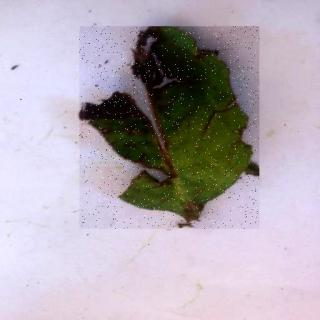Brown Blight: (81, 28, 261, 230)
